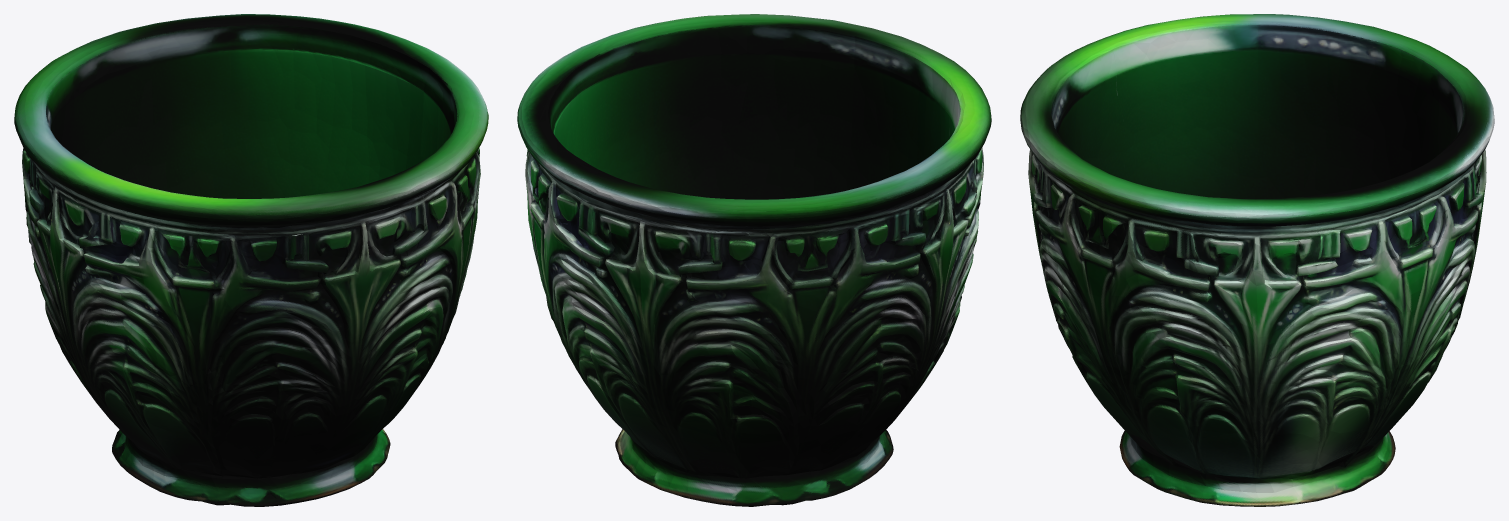
Rendered from ceramic-garden-pot-art-deco.jpeg.glb.
3 renders of one model, left to right at view 1: azimuth 30°, elevation 25°; view 2: azimuth 150°, elevation 25°; view 3: azimuth 270°, elevation 25°, orthographic.
Visible parts, largest first — view 1: world; view 2: world; view 3: world.
Part boxes in pixels (left/top/right/bottom): world: left=14, top=14, right=488, bottom=506; world: left=517, top=14, right=991, bottom=506; world: left=1020, top=14, right=1494, bottom=506.
Bounding box in the file's own units: 1 × 0.7949 × 1.
1 material, 1 textured.
